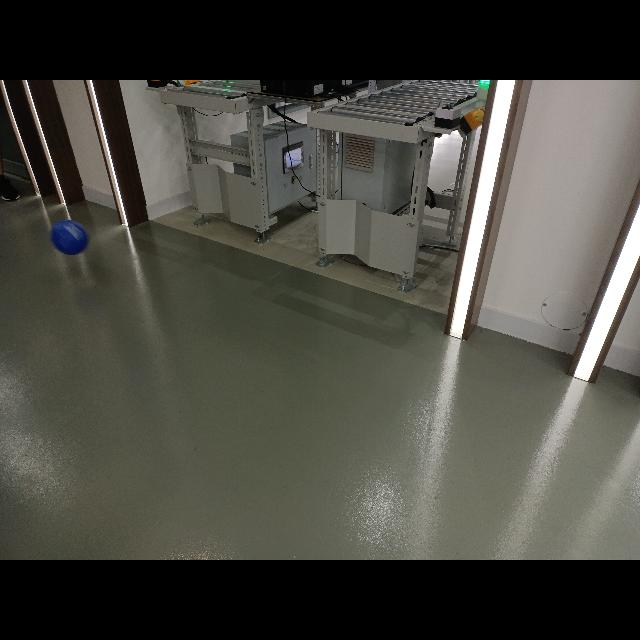B: (47, 218, 93, 258)
